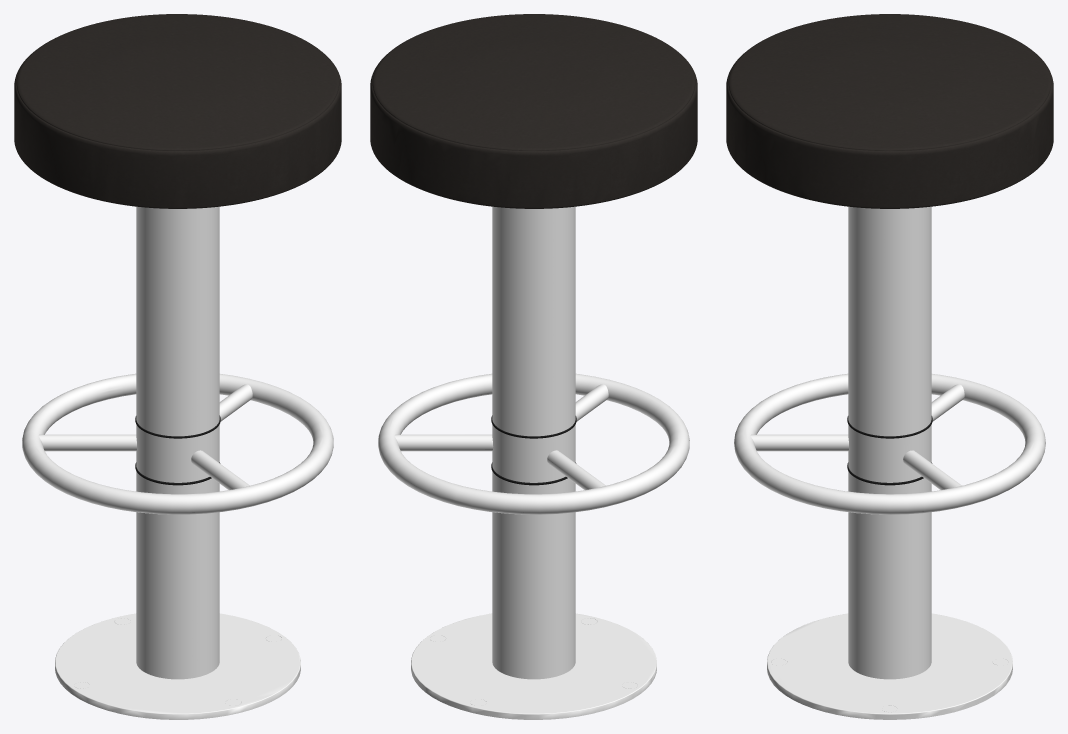
File: c114-teknofibra-40.glb
3 renders of one model, left to right at view 1: azimuth 30°, elevation 25°; view 2: azimuth 150°, elevation 25°; view 3: azimuth 270°, elevation 25°, orthographic.
Visible parts, largest first — view 1: c114-base-piastra, c114-seduta-acciaio, c114-tubo-boccola-alta; view 2: c114-base-piastra, c114-seduta-acciaio, c114-tubo-boccola-alta; view 3: c114-base-piastra, c114-seduta-acciaio, c114-tubo-boccola-alta.
Boxes of the visible parts, x1,y1,x2,y2 form: c114-base-piastra: (22, 206, 333, 719); c114-seduta-acciaio: (14, 14, 341, 208); c114-tubo-boccola-alta: (135, 415, 220, 485); c114-base-piastra: (378, 206, 689, 719); c114-seduta-acciaio: (370, 14, 697, 208); c114-tubo-boccola-alta: (491, 415, 576, 485); c114-base-piastra: (734, 206, 1045, 719); c114-seduta-acciaio: (726, 14, 1053, 208); c114-tubo-boccola-alta: (847, 416, 932, 485).
Bounding box in the file's own units: 0.3991 × 0.8009 × 0.3991.
4 materials, 1 textured.
